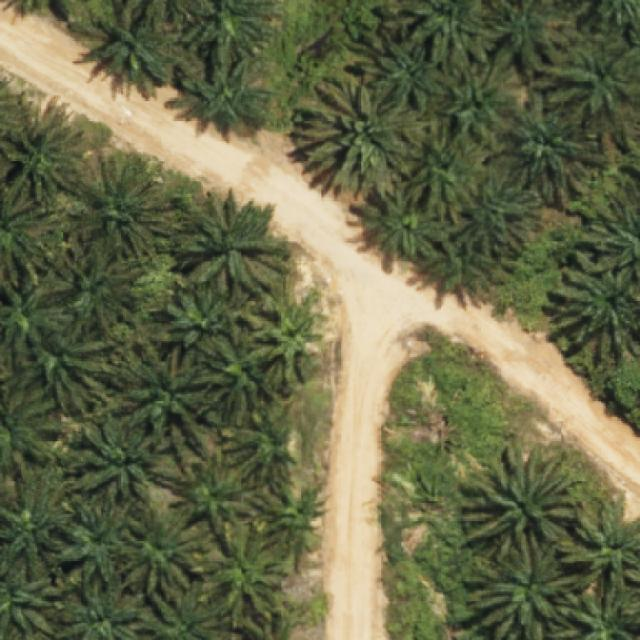Kelapa_Sawit: (290, 75, 436, 200), (457, 439, 588, 573), (490, 88, 612, 212), (170, 186, 295, 305), (68, 151, 180, 272), (111, 344, 229, 456), (13, 313, 122, 418), (191, 515, 291, 628), (60, 408, 172, 508), (151, 444, 258, 547), (46, 237, 151, 341), (426, 43, 526, 149), (398, 120, 494, 226), (0, 91, 86, 209), (108, 499, 201, 607), (233, 284, 322, 396), (53, 480, 135, 592), (351, 30, 458, 115), (350, 178, 455, 264), (446, 172, 546, 262), (167, 53, 276, 135), (218, 397, 299, 500), (149, 271, 237, 364), (81, 7, 172, 88), (412, 223, 502, 303)
